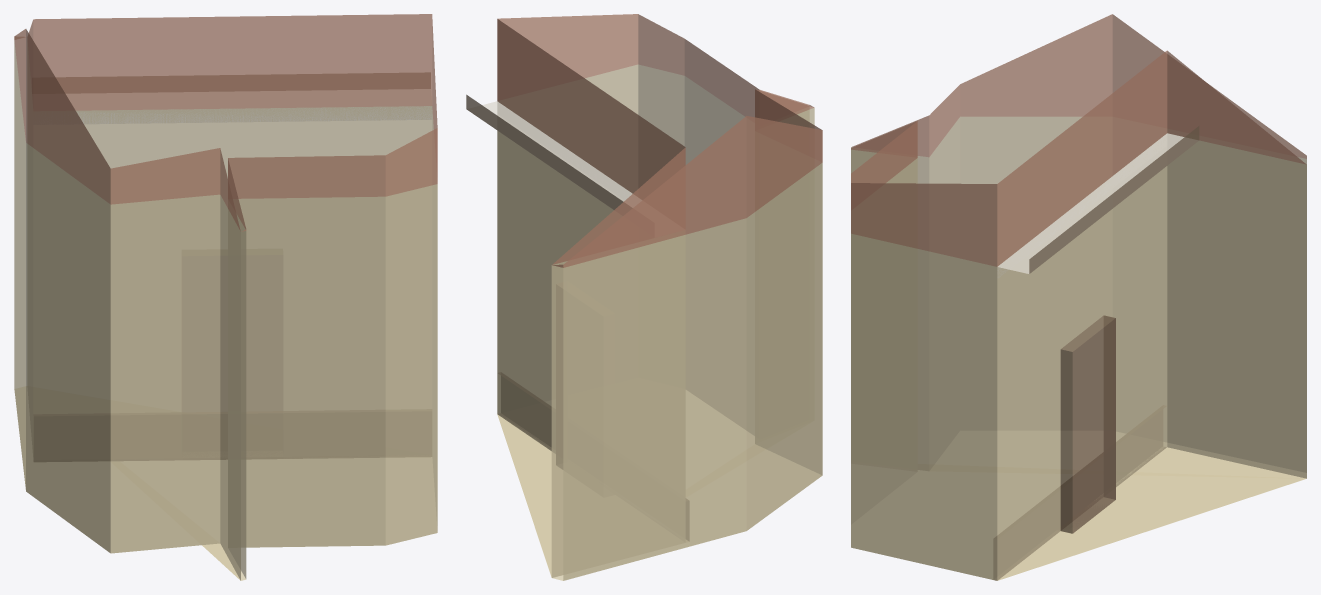
The model's file is INT-E2.glb.
3 renders of one model, left to right at view 1: azimuth 30°, elevation 25°; view 2: azimuth 150°, elevation 25°; view 3: azimuth 270°, elevation 25°, orthographic. The views are drawn at different scales.
Parts seen in each view (by area): view 1: INT-E2; view 2: INT-E2; view 3: INT-E2.
Boxes of the visible parts, left/top/right/bottom form: INT-E2: left=14, top=14, right=437, bottom=580; INT-E2: left=466, top=14, right=822, bottom=580; INT-E2: left=851, top=14, right=1306, bottom=580.
Bounding box in the file's own units: 4.09 × 5.04 × 5.
